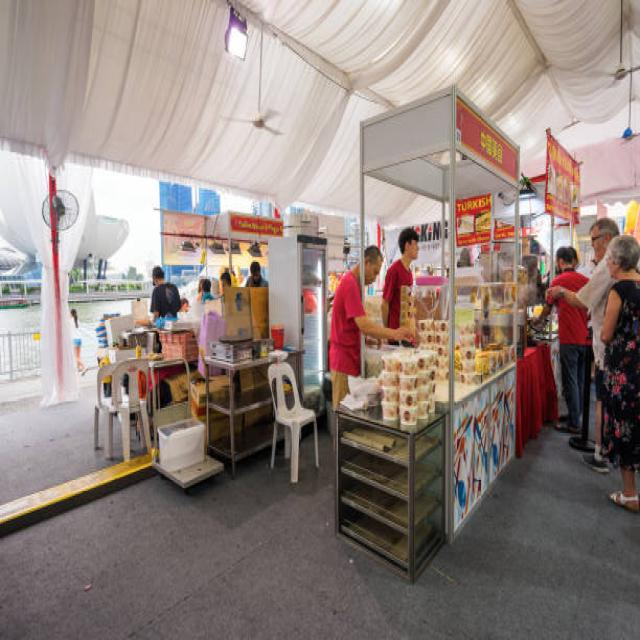Emperan: (321, 76, 525, 573)
